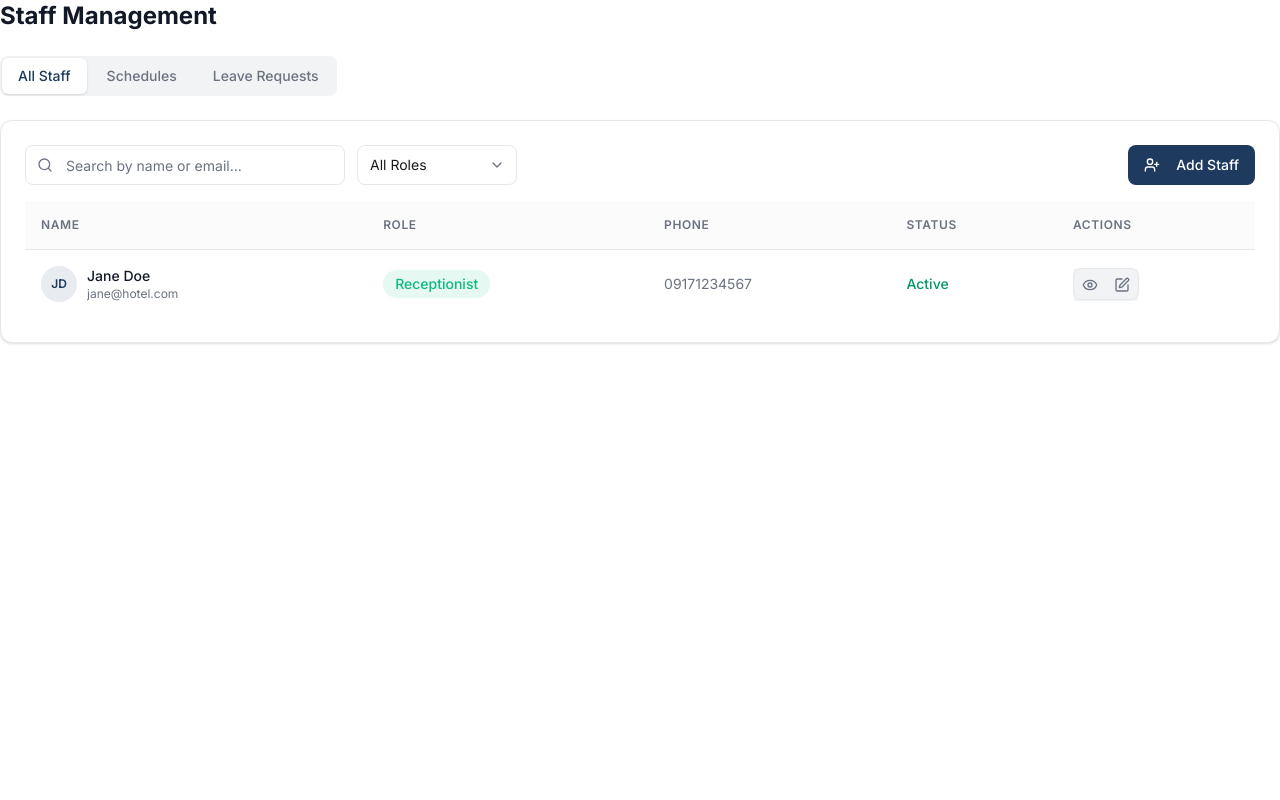
Test: StaffPage › opens the staff details modal with all facts
Click the button titled "View" at (1090, 284), box [1074,268,1106,300]
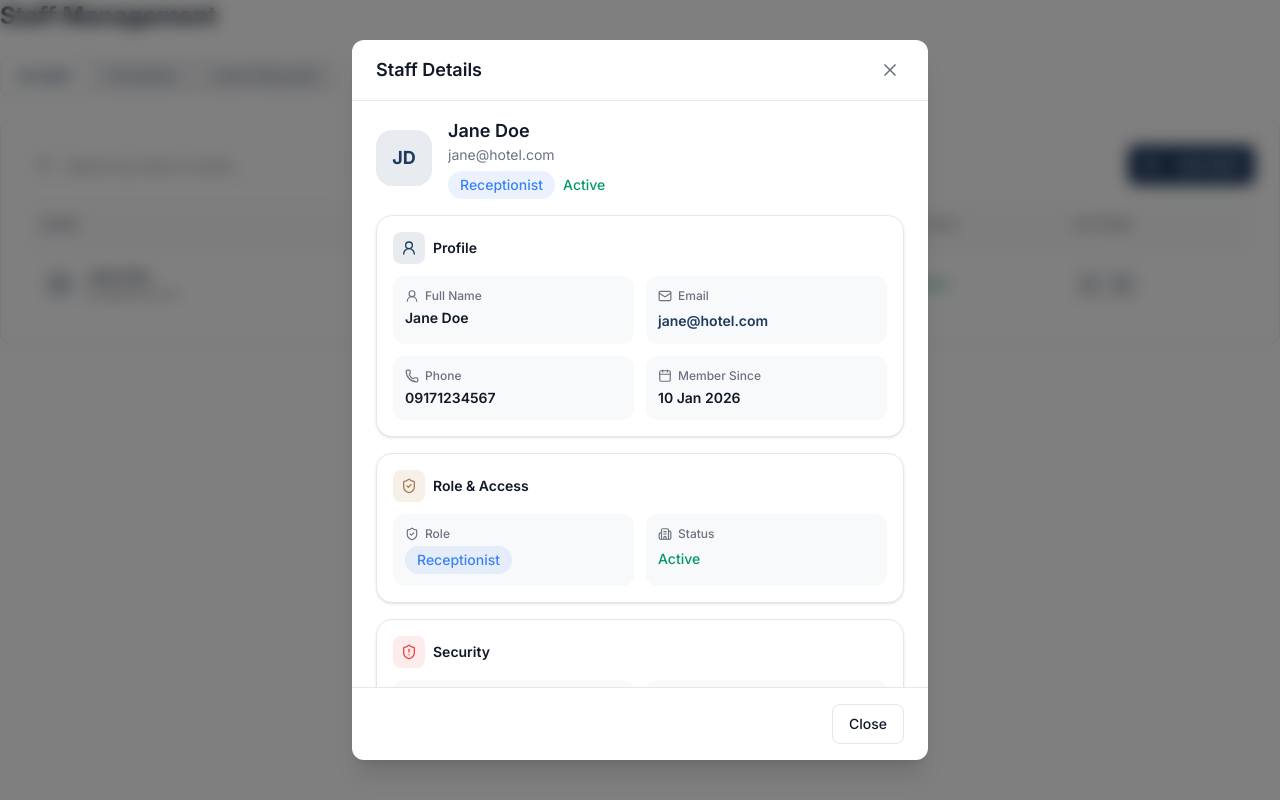
Expected: the heading "Staff Details" is shown, [376,56,482,84]
Expected: the text "Member Since" is shown, [658,368,761,383]
Expected: the heading "Role & Access" is shown, [433,476,529,496]
Click the button "Close" at (868, 724), box [832,704,904,744]
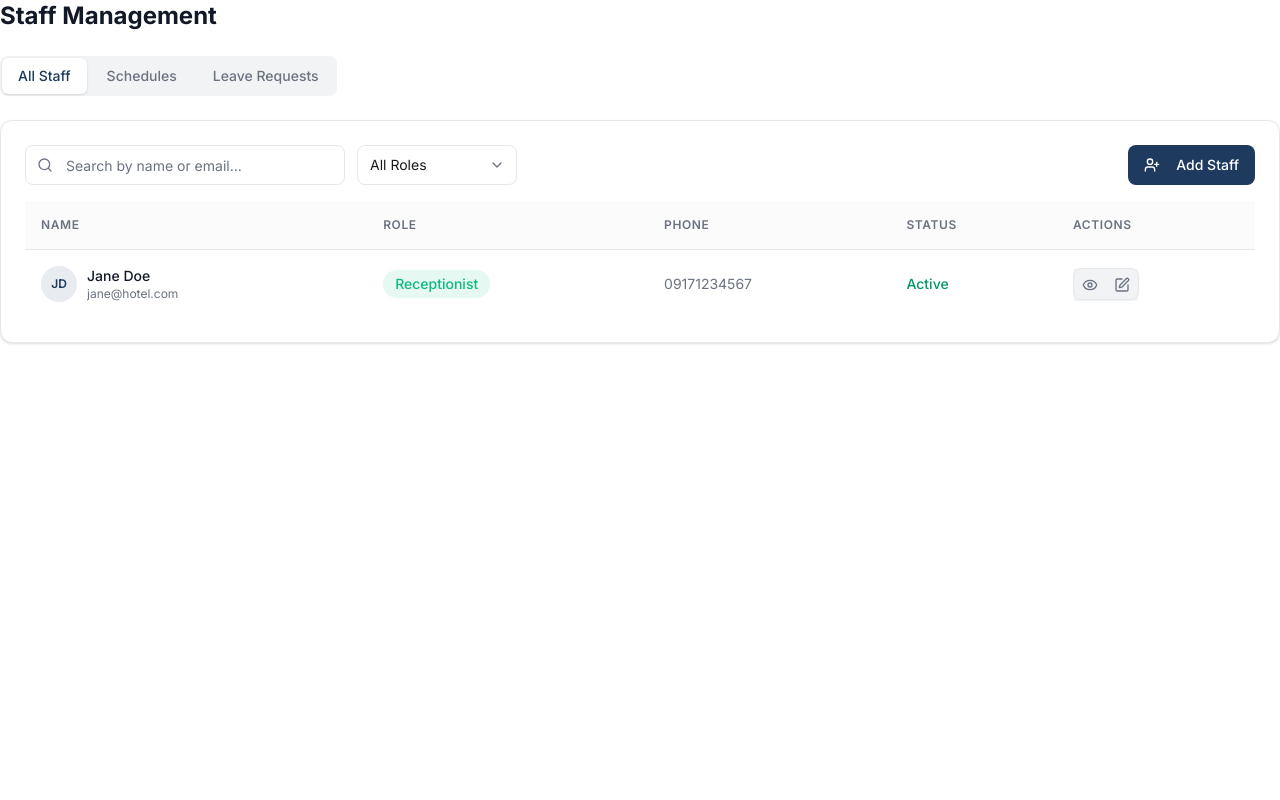
Expected: the heading "Staff Details" is gone
